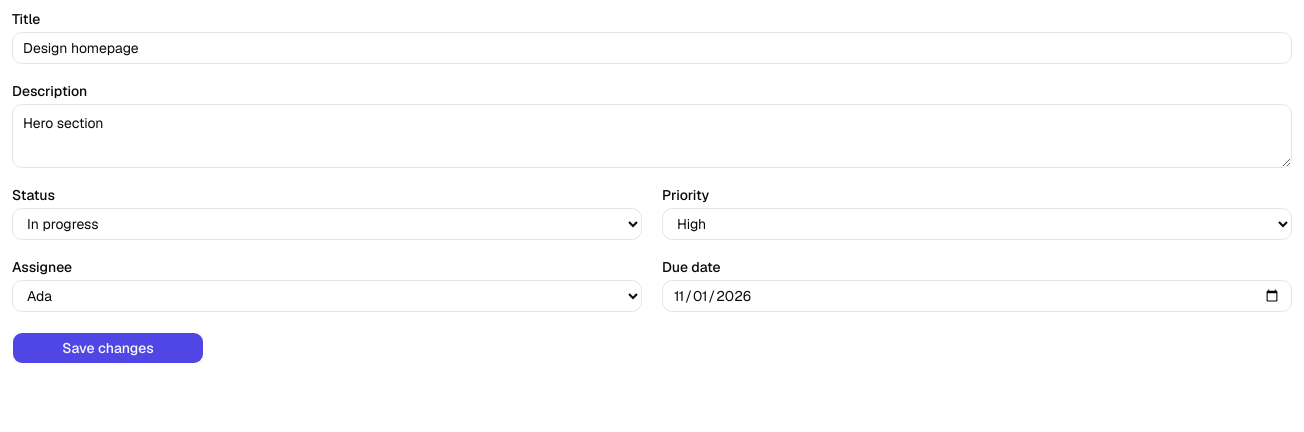
Test: TaskForm › shows validation errors next to the fields
What coordinates should you click on to do the following:
click the button "Save changes"
I would click on:
 (108, 348)
Its box is x1=12 y1=332 x2=204 y2=364.
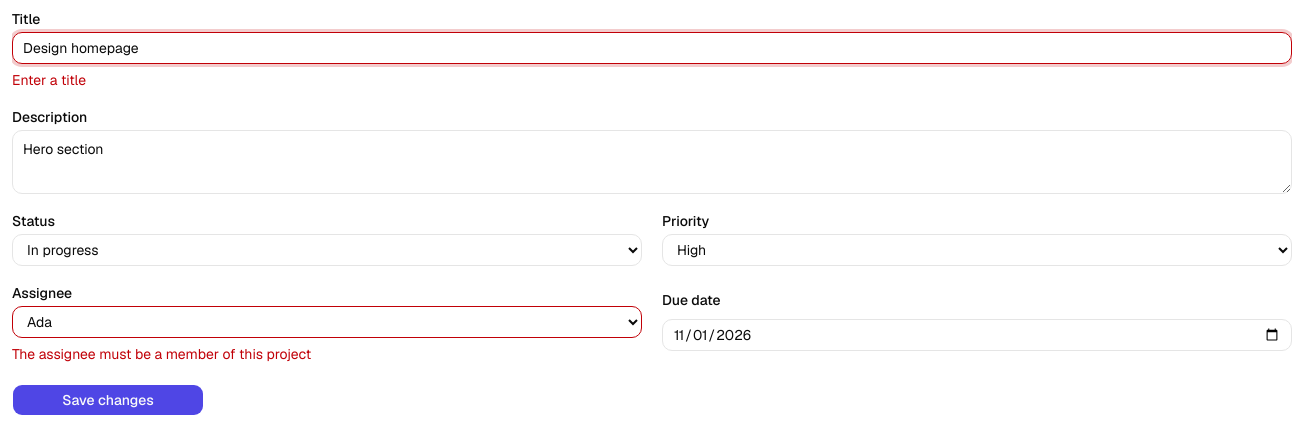
Expected: the text "The assignee must be a member of this project" is shown, x1=12 y1=345 x2=311 y2=363
Expected: the text "Enter a title" is shown, x1=12 y1=71 x2=86 y2=89
